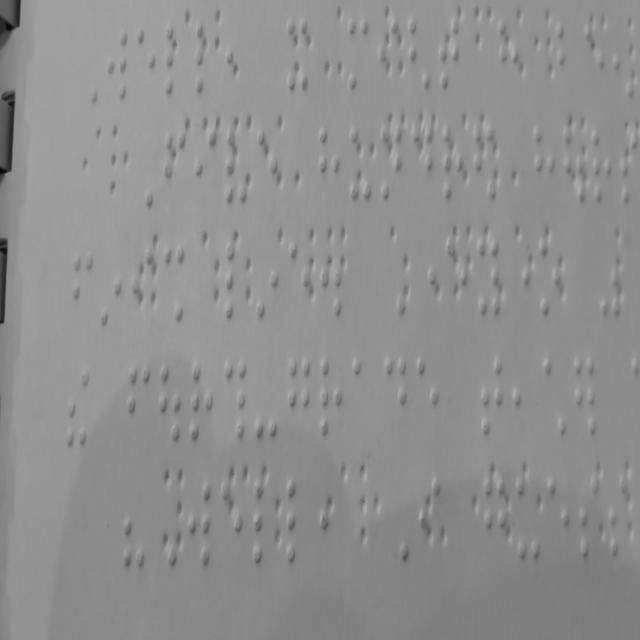braiile: (250, 472, 278, 574), (284, 474, 312, 572), (286, 232, 314, 328), (482, 468, 509, 567), (535, 229, 564, 321), (382, 349, 409, 447), (186, 474, 212, 574), (217, 477, 244, 573), (192, 15, 221, 104), (127, 357, 155, 448), (414, 348, 440, 446), (545, 470, 572, 564), (576, 468, 602, 564), (318, 350, 344, 445), (162, 17, 189, 108), (515, 472, 541, 566), (408, 116, 434, 208), (187, 358, 214, 446), (286, 11, 312, 100), (70, 245, 96, 334), (478, 352, 504, 441), (254, 122, 280, 210), (286, 351, 312, 439), (350, 348, 374, 442), (224, 122, 250, 208), (444, 232, 470, 318), (440, 116, 465, 205), (134, 20, 159, 108), (589, 120, 614, 208), (348, 121, 373, 208), (224, 238, 248, 328), (476, 231, 500, 321), (606, 472, 630, 562), (345, 13, 371, 96), (317, 122, 342, 208), (437, 12, 463, 94), (193, 125, 218, 209), (377, 11, 401, 97), (130, 244, 154, 330), (380, 121, 403, 208), (105, 26, 130, 106), (163, 125, 186, 209), (497, 16, 521, 92), (619, 124, 640, 208)
